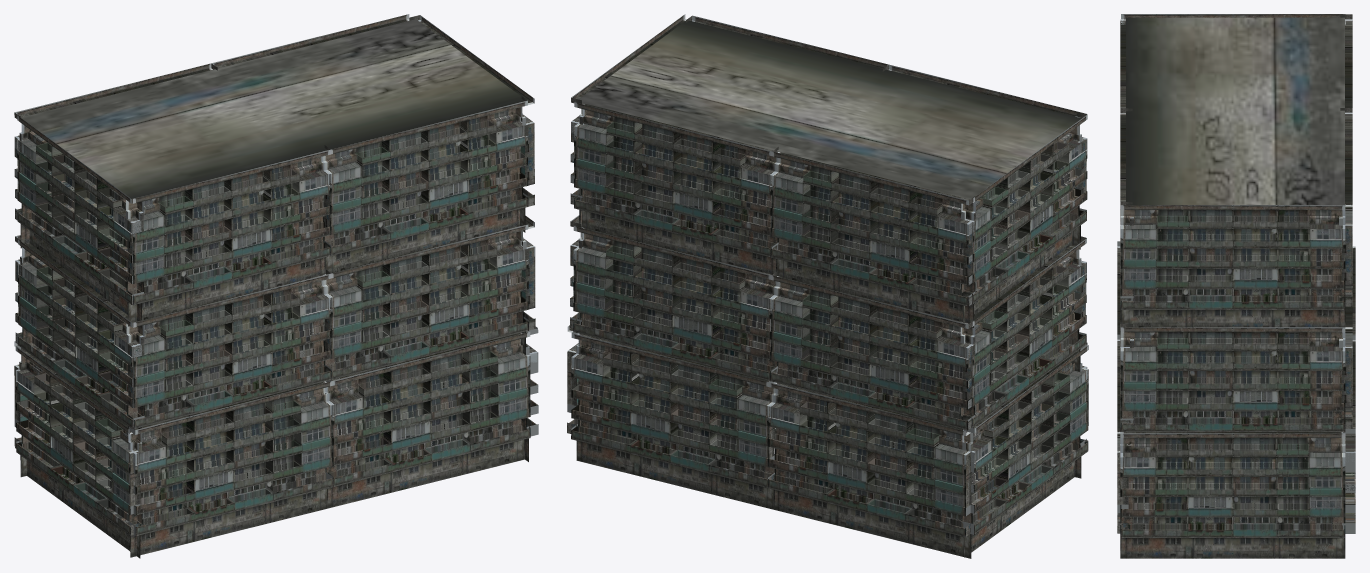
Rendered from SUP_cyberpunk_background_appartment_building.glb.
3 views of the same model, side by side, from view 1: azimuth 30°, elevation 25°; view 2: azimuth 150°, elevation 25°; view 3: azimuth 270°, elevation 25° (orthographic).
Visible parts, largest first — view 1: SUP_cyberpunk_background_appartment_building; view 2: SUP_cyberpunk_background_appartment_building; view 3: SUP_cyberpunk_background_appartment_building.
Boxes of the visible parts, box(x1,y1,x2,y2) form: SUP_cyberpunk_background_appartment_building: box(14, 14, 538, 558); SUP_cyberpunk_background_appartment_building: box(567, 14, 1088, 558); SUP_cyberpunk_background_appartment_building: box(1117, 14, 1355, 558).
Size of the model in its own units: 36.31 by 30.98 by 18.66.
Materials: 1 (1 with a texture image).
